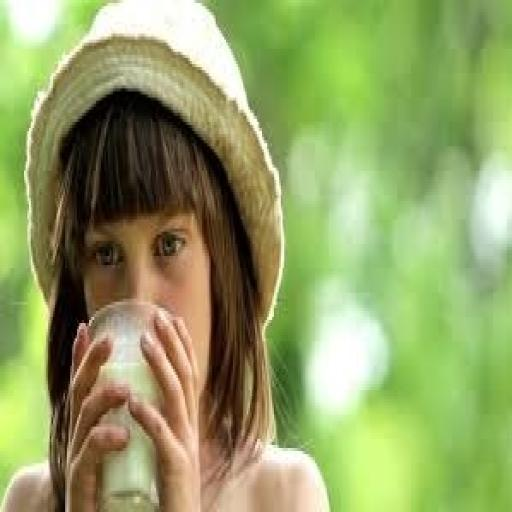drinking: (84, 299, 169, 509)
